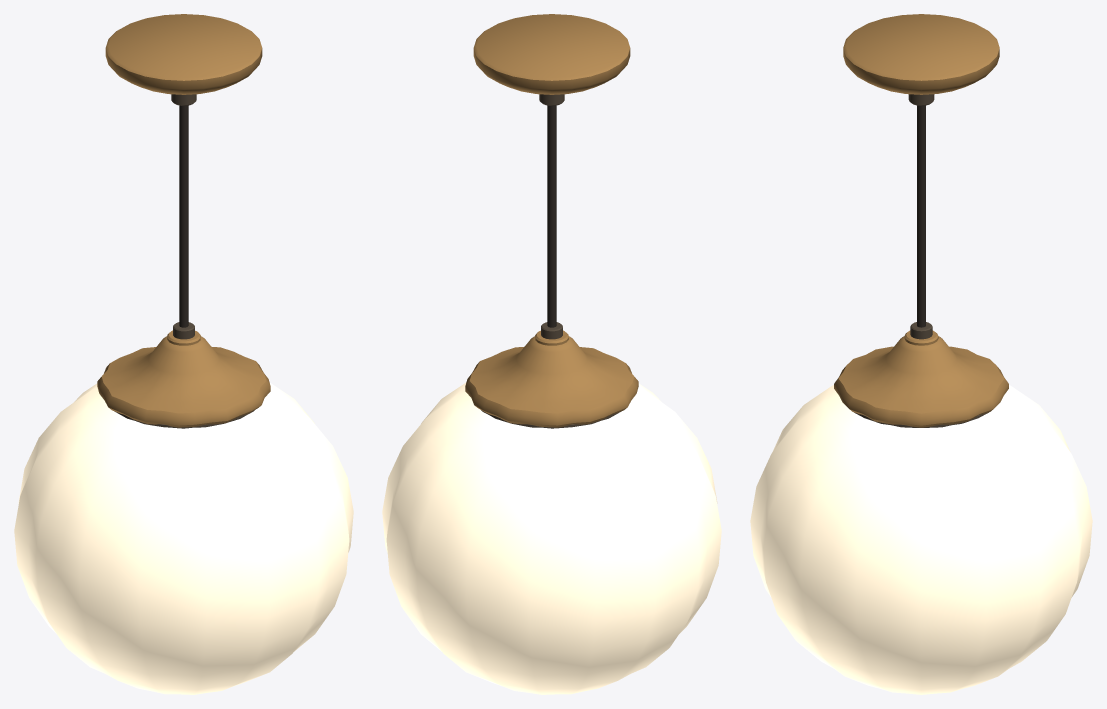
The picture shows the model from 3 angles, left to right: view 1: azimuth 30°, elevation 25°; view 2: azimuth 150°, elevation 25°; view 3: azimuth 270°, elevation 25°; orthographic projection.
Parts seen in each view (by area): view 1: Fixture; view 2: Fixture; view 3: Fixture.
Boxes of the visible parts, x1,y1,x2,y2 form: Fixture: [14, 14, 353, 694]; Fixture: [382, 14, 721, 694]; Fixture: [750, 14, 1092, 694].
Size of the model in its own units: 0.2406 by 0.491 by 0.2406.
